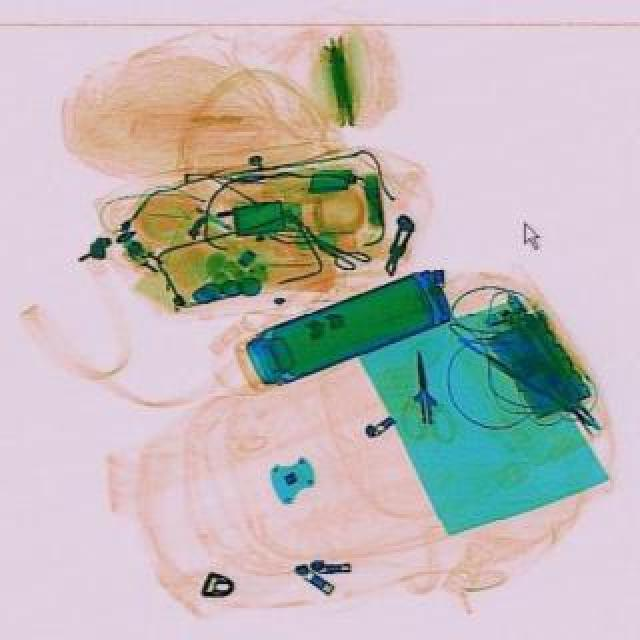knife: (406, 348, 436, 424)
